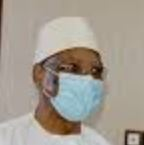with_facemask: (58, 73, 105, 124)
